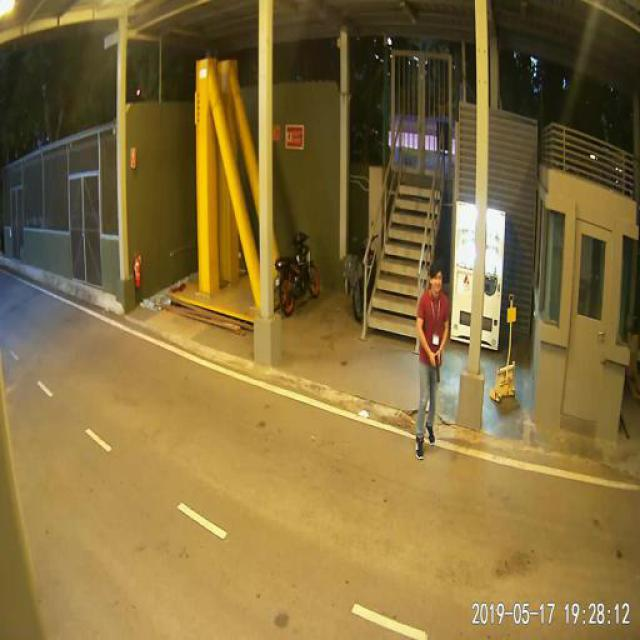Gun: (428, 352, 438, 382)
